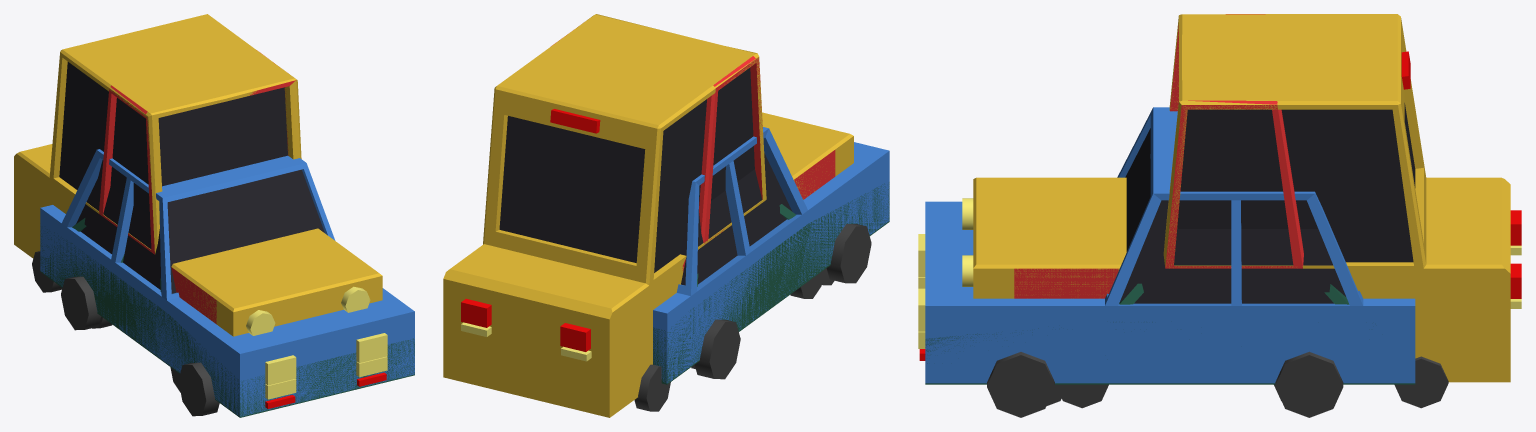
File: SM_Cars.fbx
3 renders of one model, left to right at view 1: azimuth 30°, elevation 25°; view 2: azimuth 150°, elevation 25°; view 3: azimuth 270°, elevation 25°, orthographic. The views are drawn at different scales.
Visible parts, largest first — view 1: SM_Cars_04, SM_Cars_02, SM_Cars_03, SM_Cars_01; view 2: SM_Cars_04, SM_Cars_02, SM_Cars_03, SM_Cars_01; view 3: SM_Cars_04, SM_Cars_02, SM_Cars_01, SM_Cars_03.
Boxes of the visible parts, left/top/right/bottom form: SM_Cars_04: left=14, top=14, right=382, bottom=336; SM_Cars_02: left=40, top=149, right=414, bottom=416; SM_Cars_03: left=40, top=218, right=414, bottom=417; SM_Cars_01: left=92, top=52, right=295, bottom=392; SM_Cars_04: left=443, top=14, right=853, bottom=417; SM_Cars_02: left=653, top=127, right=889, bottom=383; SM_Cars_03: left=653, top=182, right=889, bottom=384; SM_Cars_01: left=552, top=34, right=835, bottom=369; SM_Cars_04: left=962, top=14, right=1521, bottom=408; SM_Cars_02: left=918, top=107, right=1415, bottom=416; SM_Cars_01: left=1014, top=14, right=1303, bottom=408; SM_Cars_03: left=918, top=277, right=1415, bottom=417.
Size of the model in its own units: 2.19 by 2.75 by 4.93.
